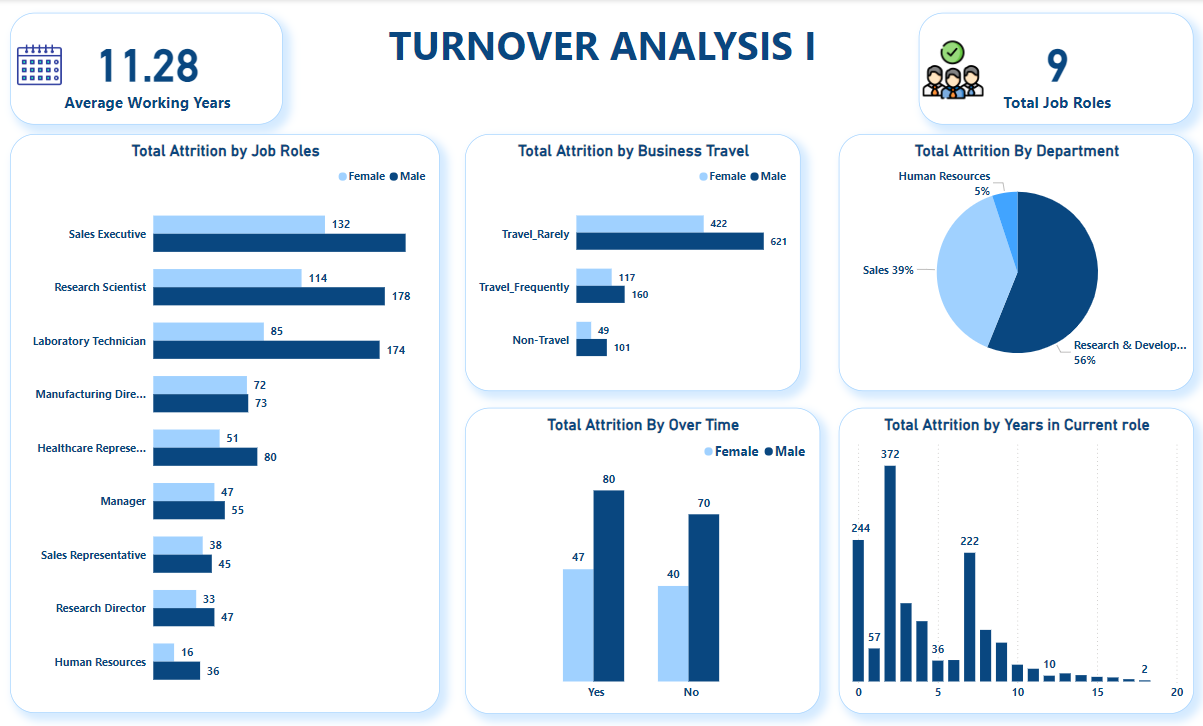

The dashboard page shown, as its layout file describes it:
{"tool":"powerbi","page":{"name":"TURNOVER-1","canvas":[1500,900],"ordinal":2},"visuals":[{"type":"card","fields":{"Values":["Avg(HR-Employee-Attrition.TotalWorkingYears)"]},"box":[24,16.8,333.7,136.9],"z":0},{"type":"clusteredBarChart","title":"Total Attrition by Job Roles","fields":{"Y":["CountNonNull(HR-Employee-Attrition.Attrition)"],"Category":["HR-Employee-Attrition.JobRole"],"Series":["HR-Employee-Attrition.Gender"]},"box":[24,165.7,525.8,708.3],"z":1000},{"type":"card","fields":{"Values":["Count(HR-Employee-Attrition.JobRole)"]},"box":[1135.6,16.8,336.1,136.9],"z":2000},{"type":"pieChart","title":"Total Attrition By Department","fields":{"Y":["Sum(HR-Employee-Attrition.Attrition number)"],"Category":["HR-Employee-Attrition.Department"]},"box":[1037.2,165.7,434.6,314.5],"z":3000},{"type":"columnChart","title":"Total Attrition by Years in Current role","fields":{"Category":["HR-Employee-Attrition.YearsInCurrentRole"],"Y":["CountNonNull(HR-Employee-Attrition.Attrition)"]},"box":[1037.2,499.4,434.6,374.5],"z":4000},{"type":"clusteredBarChart","title":"Total Attrition by Business Travel","fields":{"Category":["HR-Employee-Attrition.BusinessTravel"],"Y":["CountNonNull(HR-Employee-Attrition.Attrition)"],"Series":["HR-Employee-Attrition.Gender"]},"box":[581,165.7,410.6,314.5],"z":5000},{"type":"textbox","box":[190.3,18.2,1115.6,147.8],"z":6000},{"type":"image","box":[24,38.4,72,81.6],"z":7000},{"type":"image","box":[1135.6,38.4,84,96],"z":8000},{"type":"clusteredColumnChart","title":"Total Attrition By Over Time","fields":{"Category":["HR-Employee-Attrition.OverTime"],"Y":["Sum(HR-Employee-Attrition.Attrition number)"],"Series":["HR-Employee-Attrition.Gender"]},"box":[581,499.4,434.6,374.5],"z":9000}]}

Visuals, with their boxes in screenshot pixels (x1, y1, x2, y2), scaled from the page's 1500x900 canvas onto the 1203x726 screenshot:
card - Avg(HR-Employee-Attrition.TotalWorkingYears): 19, 14, 287, 124
"Total Attrition by Job Roles" clusteredBarChart: 19, 134, 441, 705
card - Count(HR-Employee-Attrition.JobRole): 911, 14, 1180, 124
"Total Attrition By Department" pieChart: 832, 134, 1180, 387
"Total Attrition by Years in Current role" columnChart: 832, 403, 1180, 705
"Total Attrition by Business Travel" clusteredBarChart: 466, 134, 795, 387
textbox: 153, 15, 1047, 134
image: 19, 31, 77, 97
image: 911, 31, 978, 108
"Total Attrition By Over Time" clusteredColumnChart: 466, 403, 815, 705
